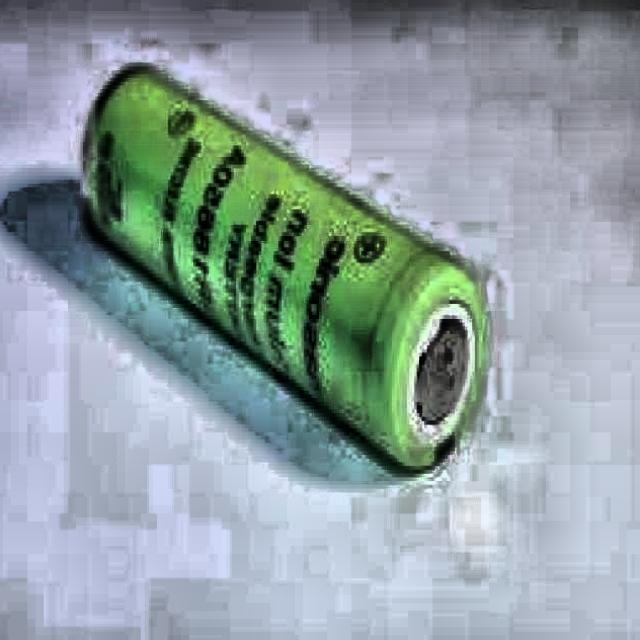battery: (79, 65, 485, 472)
